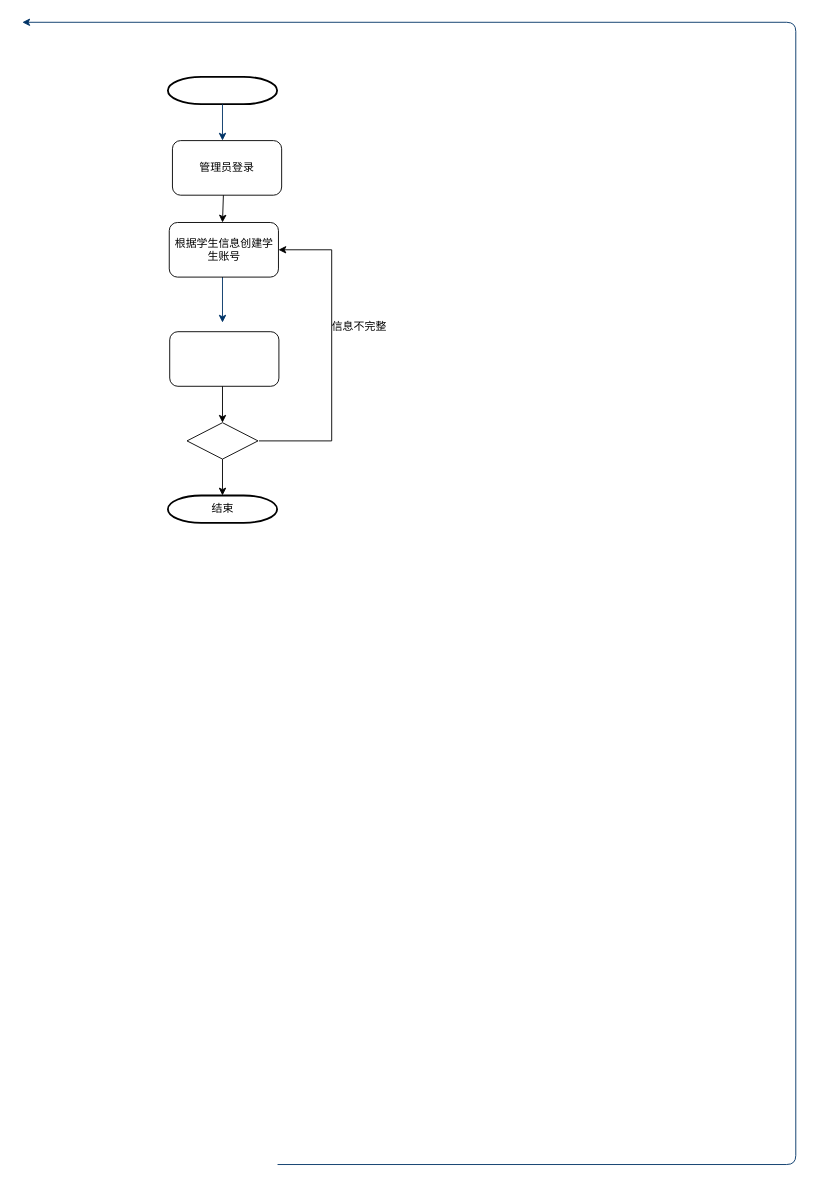
This 819x1188 diagram has some shape labels left out. The centre of each missing label's shape, as x and y in pixels:
"开始" goes at (x=222, y=90).
"校验信息完整性" goes at (x=224, y=358).
